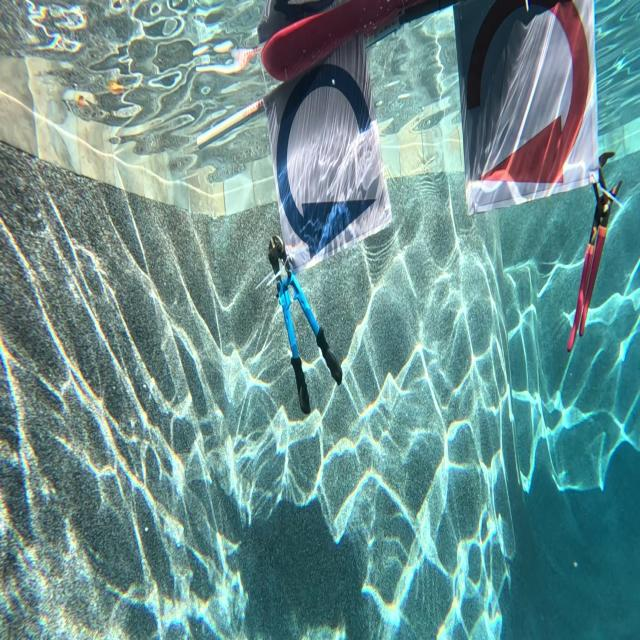blue_side: (255, 28, 396, 260)
red_side: (448, 0, 598, 197)
